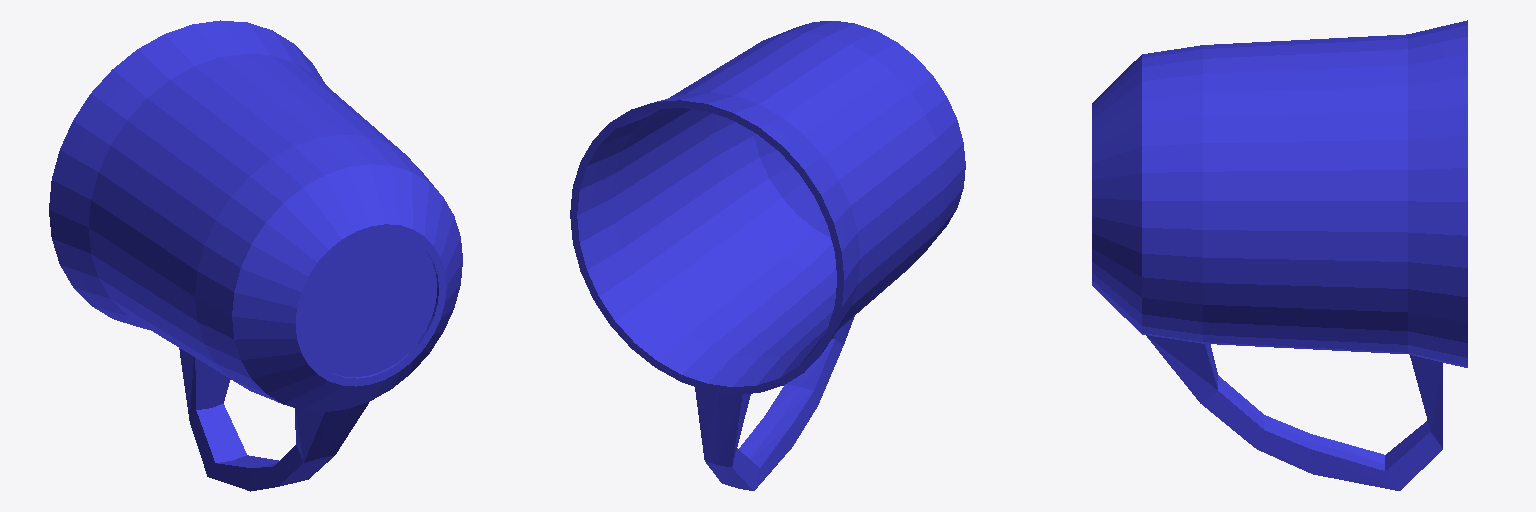
URDF robot description (mug_4):
<?xml version="1.0"?>
<robot name="mug_4">
  <link name="mug_base_link">
    <contact>
      <lateral_friction value="1.0"/>
      <spinning_friction value=".001"/>
    </contact>
    <inertial>
      <origin rpy="0 0 0" xyz="0 0 0"/>
      <mass value="0.2"/>
      <inertia ixx="1" ixy="0" ixz="0" iyy="1" iyz="0" izz="1"/>
    </inertial>
    <visual>
      <origin rpy="0 0 0" xyz="0.0 0.0 0.0"/>
      <geometry>
        <mesh filename="./m4.obj" scale="1 .75 1"/>
      </geometry>
      <material name="mug_mat">
        <color rgba="0.3 0.3 0.9 1"/>
      </material>
    </visual>
    <collision>
      <origin rpy="0 0 0" xyz="0.0 0.0 0.0"/>
      <geometry>
        <mesh filename="./m4_cd.obj" scale="1 .75 1"/>
      </geometry>
    </collision>
  </link>
</robot>

--- Render facts (derived) ---
Views: 3 orthographic renders of the robot side by side, from view 1: azimuth 30°, elevation 25°; view 2: azimuth 150°, elevation 25°; view 3: azimuth 270°, elevation 25°.
Model mug_4 with 1 links and 0 joints (none), rooted at mug_base_link, posed all joints at 0.
Visible links, largest first — view 1: mug_base_link; view 2: mug_base_link; view 3: mug_base_link.
Boxes of the visible links, x1,y1,x2,y2 form: mug_base_link: (49,20,462,491); mug_base_link: (570,21,965,490); mug_base_link: (1092,20,1467,490).
Bounding box of the posed robot: 3 × 3.23 × 4.26 m (x, y, z).
1 mesh visuals loaded from 1 distinct referenced files (1 OBJ).